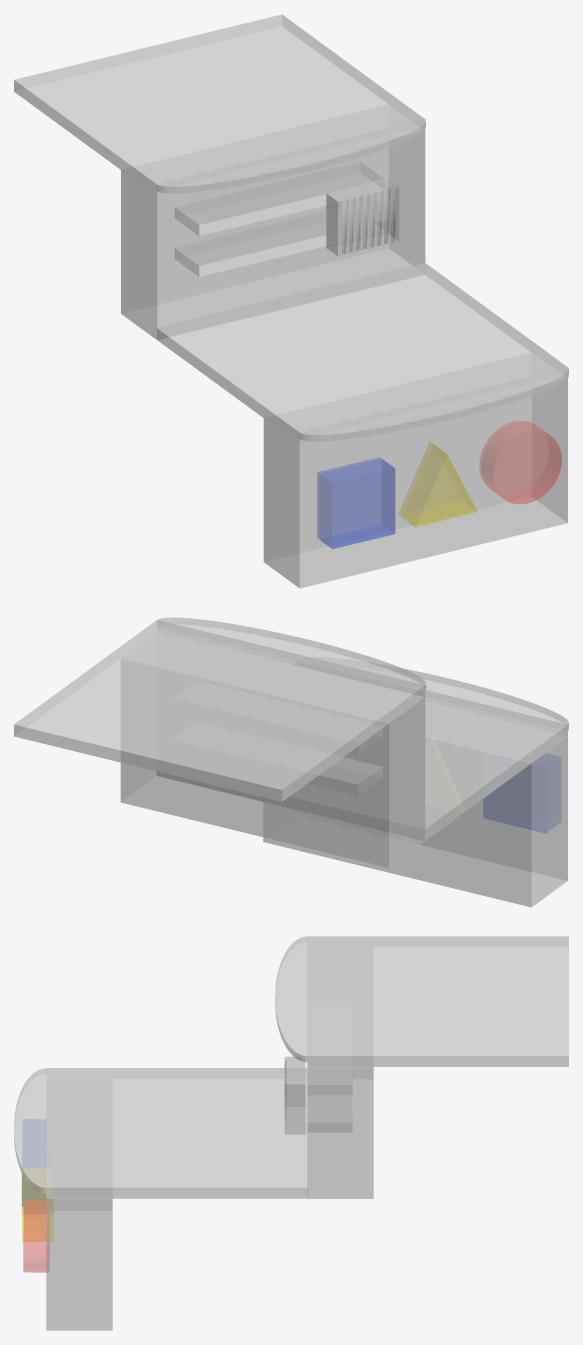
File: explode_animation.glb
3 views of the same model, one above another, from view 1: azimuth 30°, elevation 25°; view 2: azimuth 150°, elevation 25°; view 3: azimuth 270°, elevation 25° (orthographic). The views are drawn at different scales.
Parts seen in each view (by area): view 1: cube, cube.001, Cube.003, Cube.001, square button.002, Circle.003, Circle.004, circle button.002, Cube.002, triangle button.002; view 2: cube.001, Cube.003, cube, Cube.001, Circle.004, square button.002, Circle.003; view 3: Cube.003, Cube.001, cube.001, cube, Circle.003, Circle.004, circle button.002, Cube.002, triangle button.002.
Part boxes in pixels (x1=…): cube: x1=263, y1=353, x2=567, y2=588; cube.001: x1=121, y1=105, x2=425, y2=339; Cube.003: x1=14, y1=14, x2=424, y2=196; Cube.001: x1=157, y1=263, x2=567, y2=444; square button.002: x1=317, y1=457, x2=394, y2=548; Circle.003: x1=299, y1=367, x2=568, y2=441; Circle.004: x1=157, y1=119, x2=425, y2=193; circle button.002: x1=479, y1=421, x2=561, y2=503; Cube.002: x1=326, y1=178, x2=399, y2=256; triangle button.002: x1=398, y1=442, x2=477, y2=526; cube.001: x1=120, y1=632, x2=425, y2=867; Cube.003: x1=14, y1=620, x2=425, y2=801; cube: x1=263, y1=703, x2=567, y2=907; Cube.001: x1=157, y1=661, x2=567, y2=840; Circle.004: x1=157, y1=617, x2=426, y2=691; square button.002: x1=483, y1=763, x2=547, y2=833; Circle.003: x1=312, y1=657, x2=568, y2=730; Cube.003: x1=307, y1=936, x2=568, y2=1066; Cube.001: x1=46, y1=1068, x2=307, y2=1198; cube.001: x1=307, y1=948, x2=373, y2=1198; cube: x1=46, y1=1080, x2=112, y2=1330; Circle.003: x1=14, y1=1068, x2=46, y2=1193; Circle.004: x1=275, y1=936, x2=307, y2=1062; circle button.002: x1=23, y1=1200, x2=49, y2=1272; Cube.002: x1=284, y1=1056, x2=305, y2=1134; triangle button.002: x1=22, y1=1174, x2=53, y2=1241.
Bounding box in the file's own units: 1.97 × 2.1 × 3.85.
